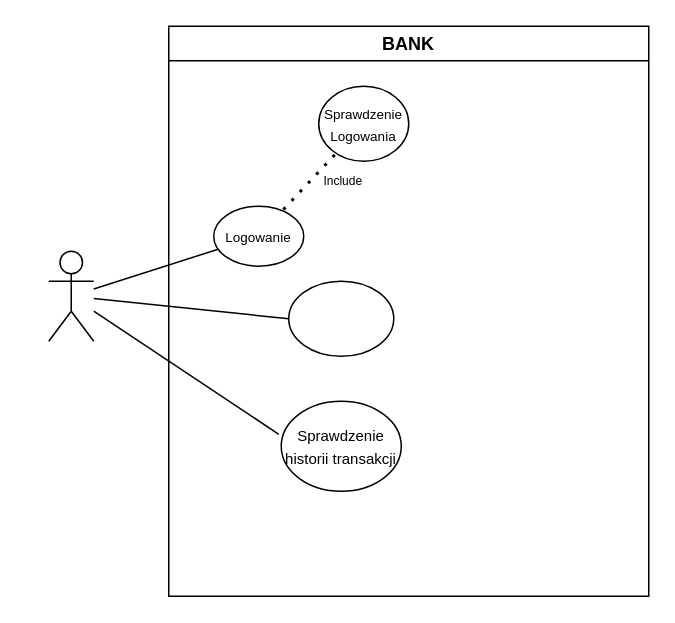
The diagram is 675 pixels wide and 623 high, and some of its shapes have lost their labels. Each missing label, with the centre of its shape:
S prawdzenie stanu salda: (x=340, y=318)
Użytkownik: (x=70, y=295)
